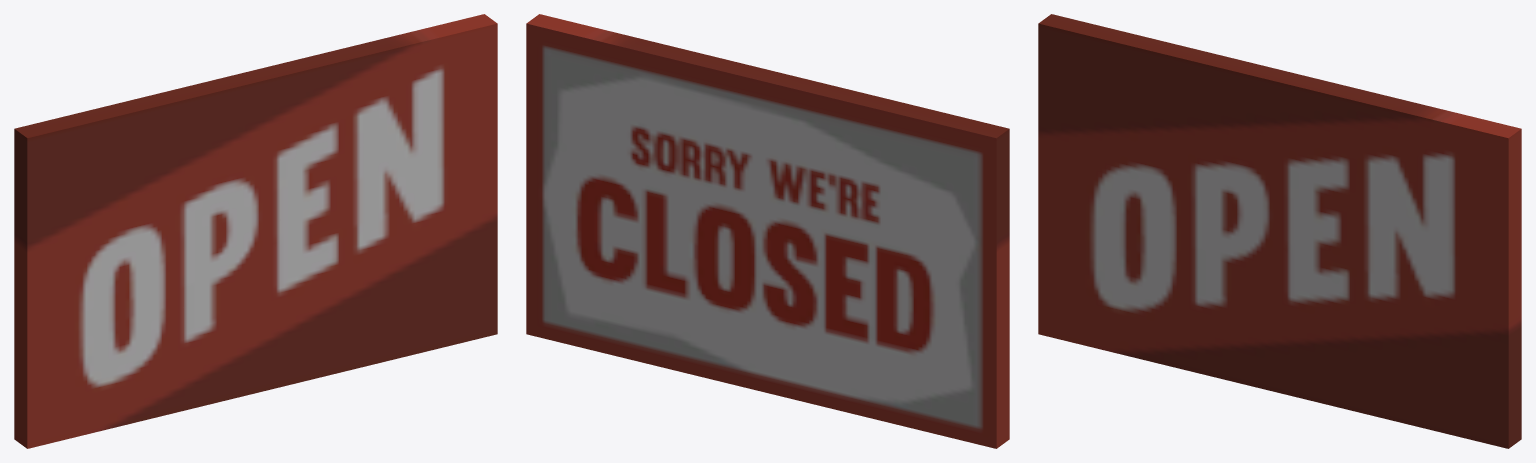
The model's file is SM_Sign_Board_04.obj.
The picture shows the model from 3 angles, left to right: view 1: azimuth 30°, elevation 25°; view 2: azimuth 150°, elevation 25°; view 3: azimuth 330°, elevation 25°; orthographic projection.
Parts seen in each view (by area): view 1: SM_Sign_Board_04_0; view 2: SM_Sign_Board_04_0; view 3: SM_Sign_Board_04_0.
Part boxes in pixels (x1,y1,x2,y2): SM_Sign_Board_04_0: [14, 14, 497, 448]; SM_Sign_Board_04_0: [526, 14, 1009, 448]; SM_Sign_Board_04_0: [1038, 14, 1521, 448].
Size of the model in its own units: 0.5034 by 0.3179 by 0.0242.
Materials: 1 (1 with a texture image).
